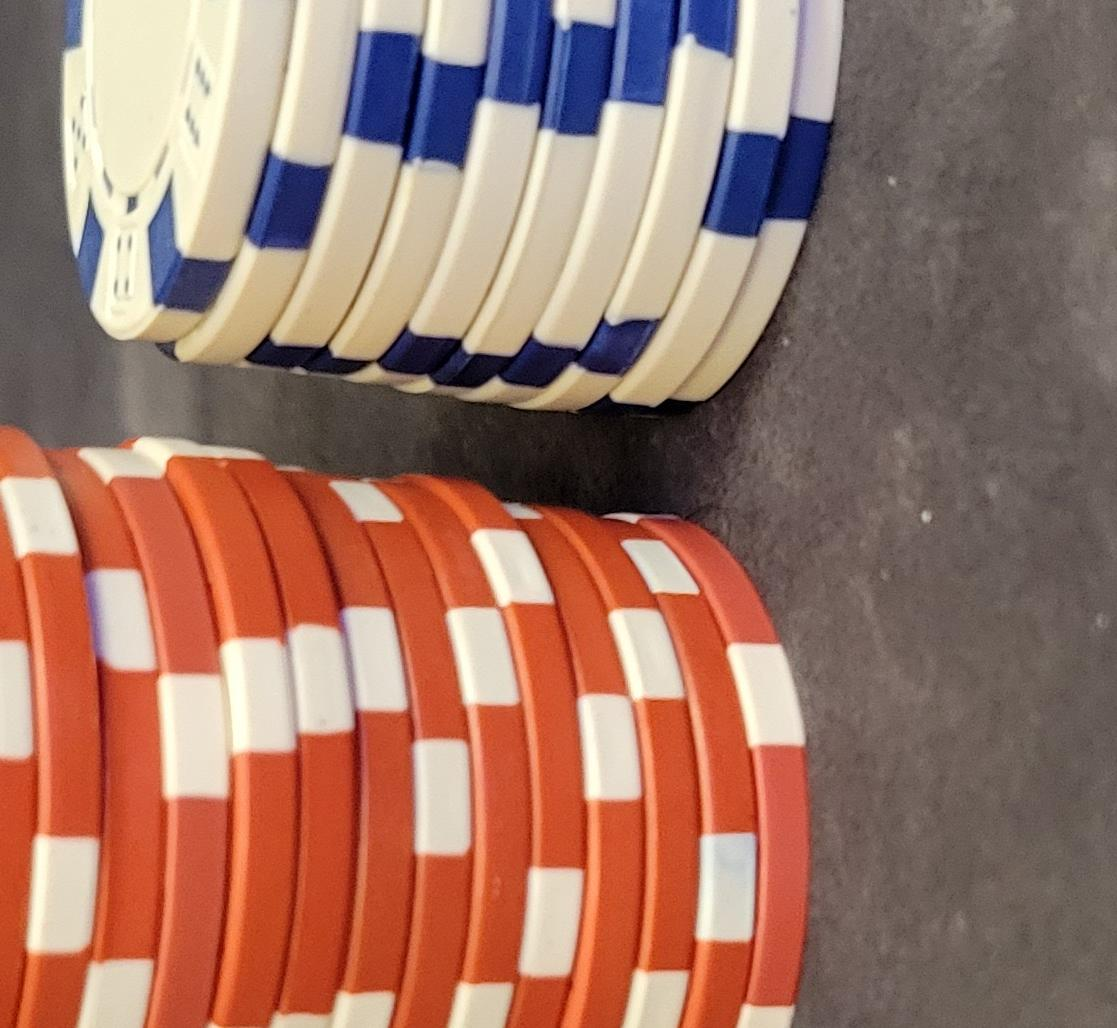Chip: (1, 247, 487, 1028)
